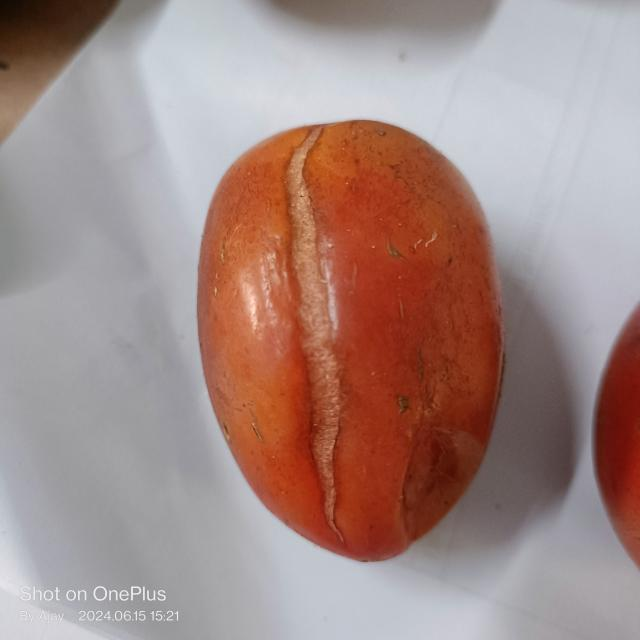tomato_cracking: (282, 113, 354, 539)
